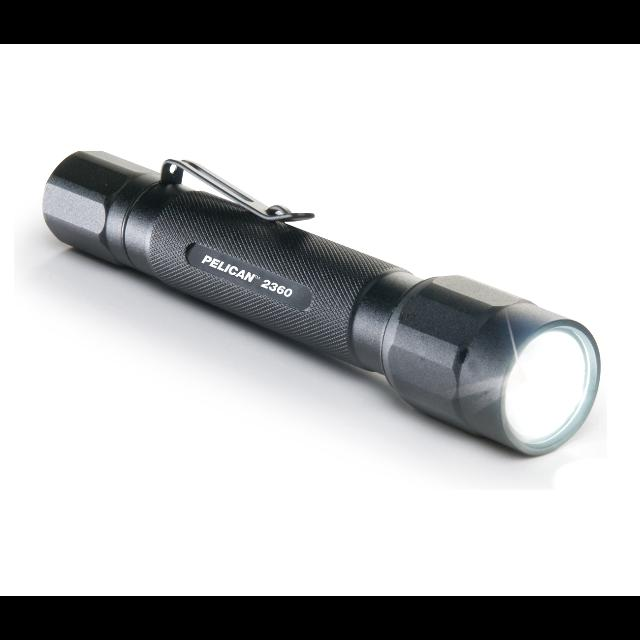Flashlight: (36, 143, 610, 464)
